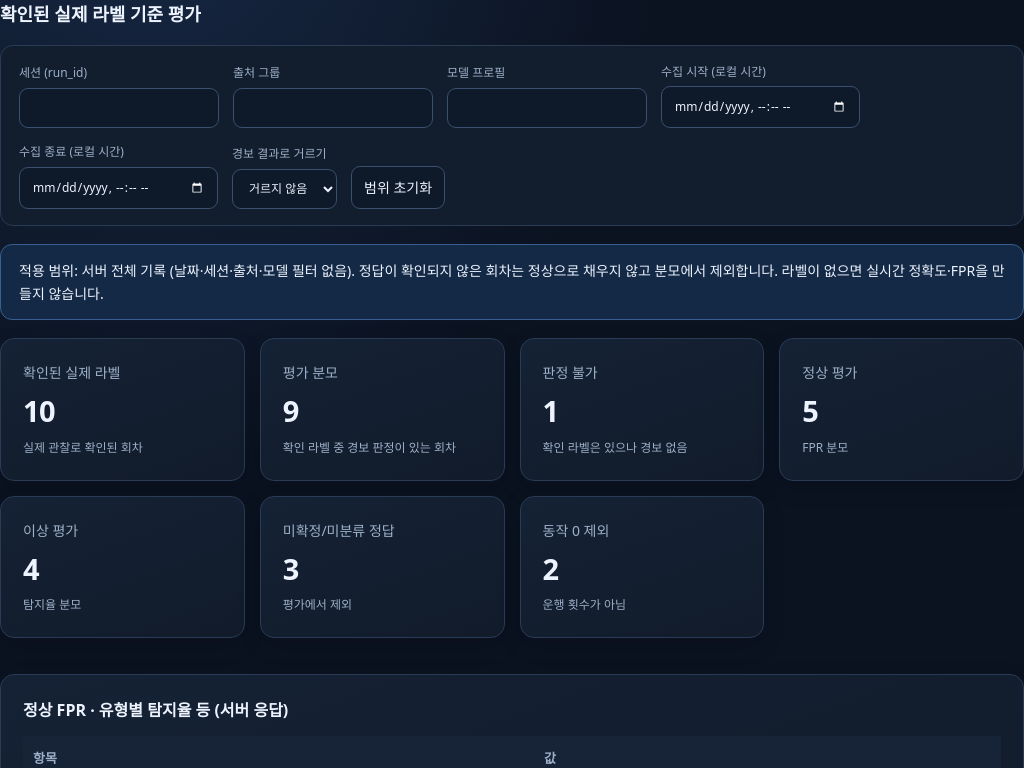
XarmMetricsPanel › 범위를 바꾸면 이전 범위의 숫자를 새 범위처럼 보여 주지 않는다
Later steps or results of the test are not shown.
expect the text "확인된 실제 라벨" is shown: met, box [23,363,120,382]
In the field labelled "세션 (run_id)": (119, 108) [19,88,219,128], type "RUN-X"
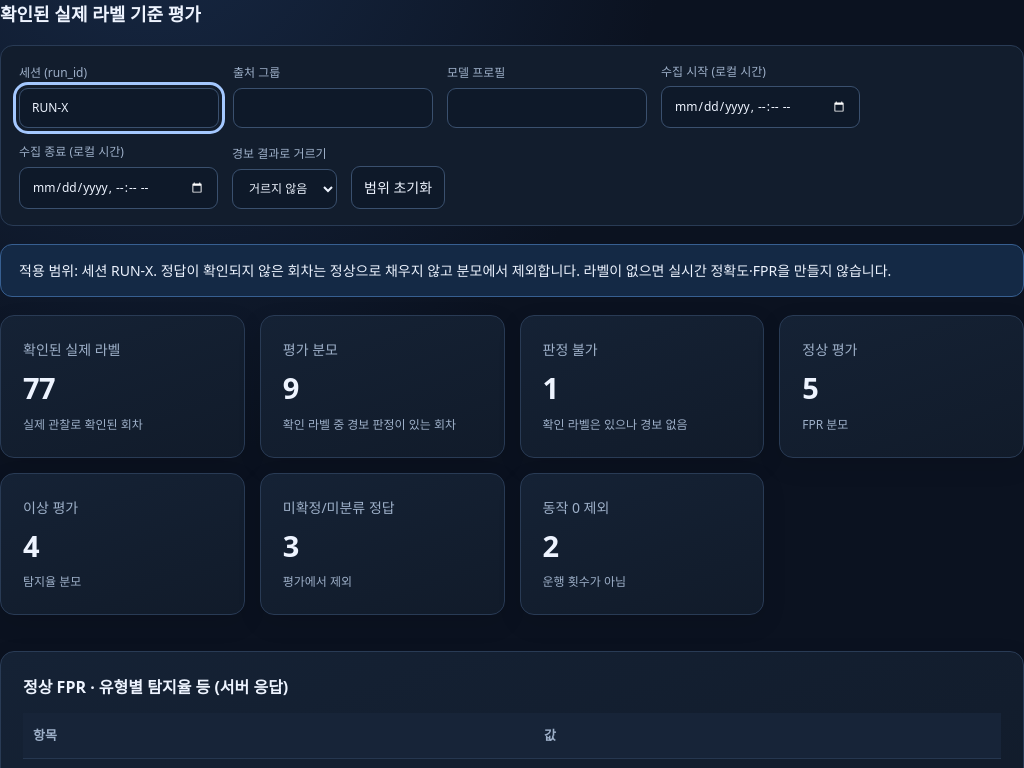
expect the text "77" is shown: met, box [23,368,55,407]
